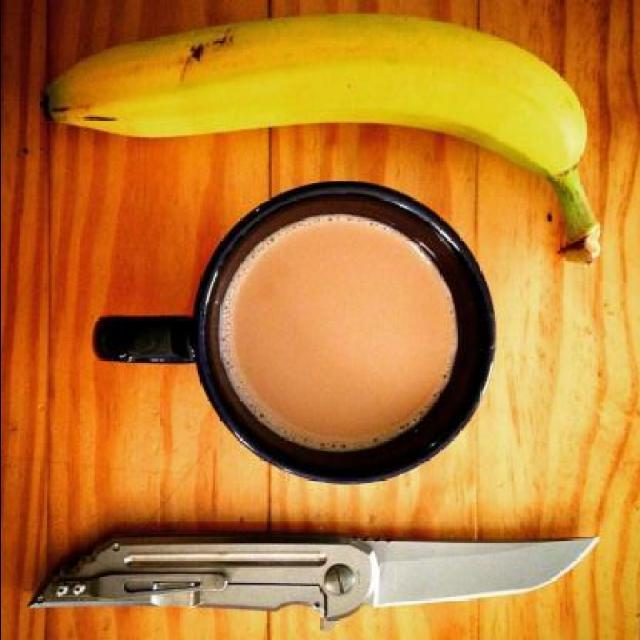Banana: (72, 0, 606, 232)
